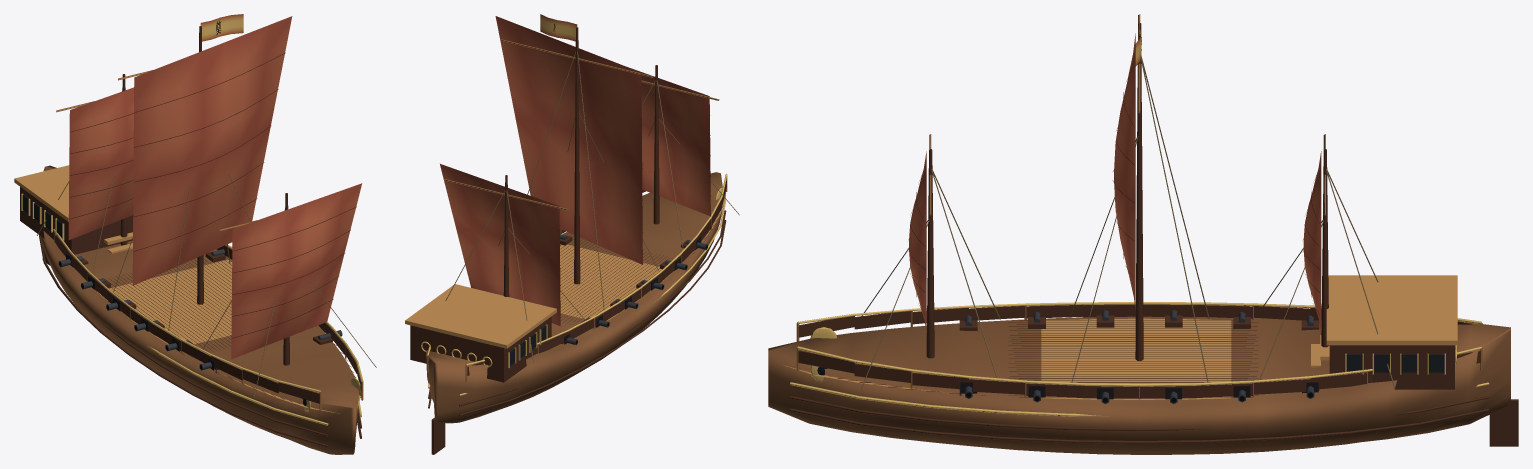
File: fuchuan-lod1.glb
3 views of the same model, side by side, from view 1: azimuth 30°, elevation 25°; view 2: azimuth 150°, elevation 25°; view 3: azimuth 270°, elevation 25° (orthographic). The views are drawn at different scales.
Visible parts, largest first — view 1: sail_02, hull, sail_03, sail_01, deck, fittings_wood, fittings_deck, fittings_trim, sterncastle_body, flag_01, fittings_iron, mast_timber_02; view 2: sail_02, hull, sail_01, sail_03, fittings_deck, deck, fittings_wood, sterncastle_body, fittings_trim, mast_timber_02, mast_timber_03, flag_01 (+4 smaller); view 3: hull, fittings_wood, fittings_deck, deck, fittings_trim, sail_02, sterncastle_body, fittings_iron, sail_01, sail_03, mast_timber_02, mast_timber_03 (+2 smaller).
Boxes of the visible parts, x1,y1,x2,y2 form: sail_02: (132,16,292,285); hull: (40,165,358,454); sail_03: (231,183,362,359); sail_01: (68,87,133,239); deck: (97,259,360,413); fittings_wood: (39,231,363,447); fittings_deck: (14,165,355,403); fittings_trim: (21,90,376,425); sterncastle_body: (20,187,133,254); flag_01: (200,14,243,41); fittings_iron: (22,195,306,405); mast_timber_02: (197,26,203,304); sail_02: (495,16,643,264); hull: (426,172,722,423); sail_01: (440,164,560,326); sail_03: (628,67,710,216); fittings_deck: (405,210,721,348); deck: (560,199,725,321); fittings_wood: (427,176,727,415); sterncastle_body: (410,316,551,382); fittings_trim: (421,51,739,395); mast_timber_02: (574,27,580,284); mast_timber_03: (653,65,659,224); flag_01: (540,14,577,41); hull: (768,316,1510,454); fittings_wood: (790,304,1489,443); fittings_deck: (829,275,1457,397); deck: (784,318,1231,399); fittings_trim: (790,55,1489,416); sail_02: (1112,33,1135,309); sterncastle_body: (1329,345,1454,389); fittings_iron: (817,320,1444,399); sail_01: (1302,151,1321,331); sail_03: (908,151,926,331); mast_timber_02: (1135,23,1143,360); mast_timber_03: (926,149,934,358).
Bounding box in the file's own units: 10.4 × 20.27 × 32.34.
